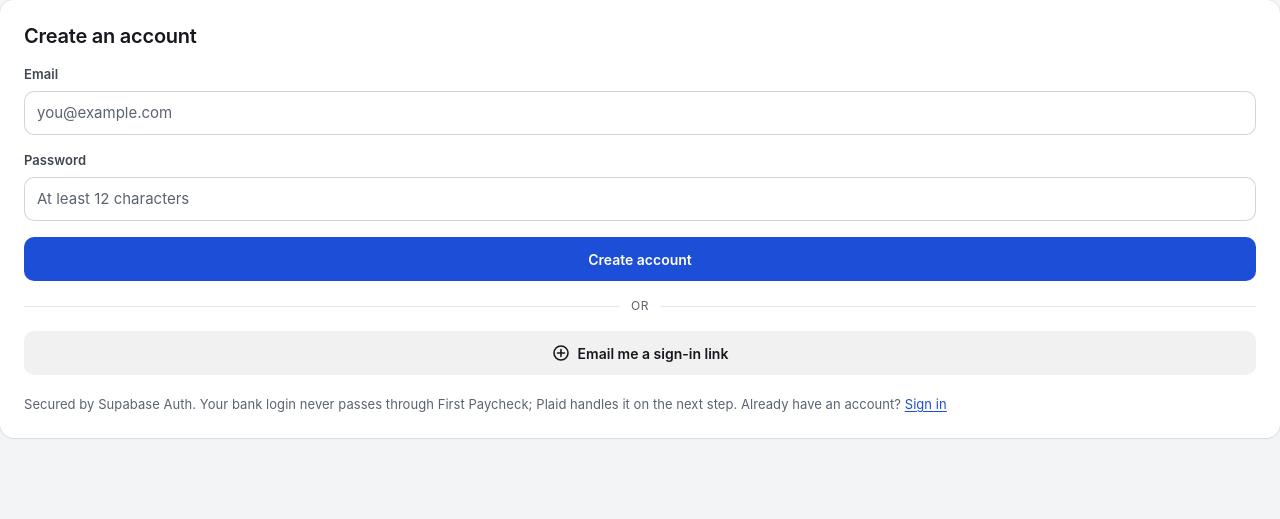
it: AuthForm, create an account › shows a sign-up error in the warning notice
In the field labelled "Email": (640, 113) [24, 90, 1256, 135], type "alex@example.com"
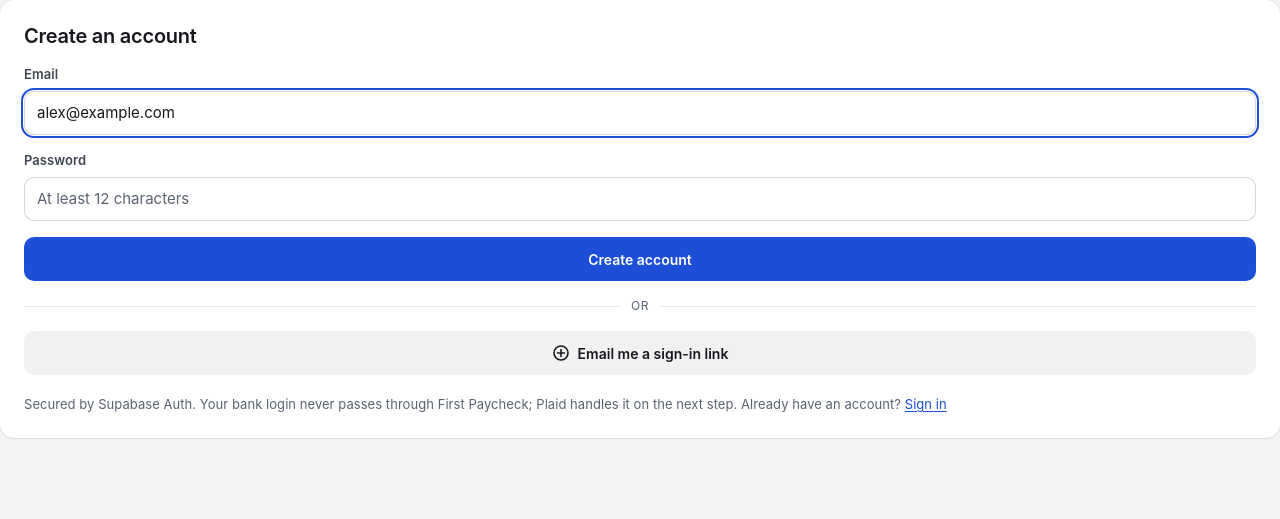
In the password field labelled "Password": (640, 199) [24, 176, 1256, 221], type "correct horse battery"
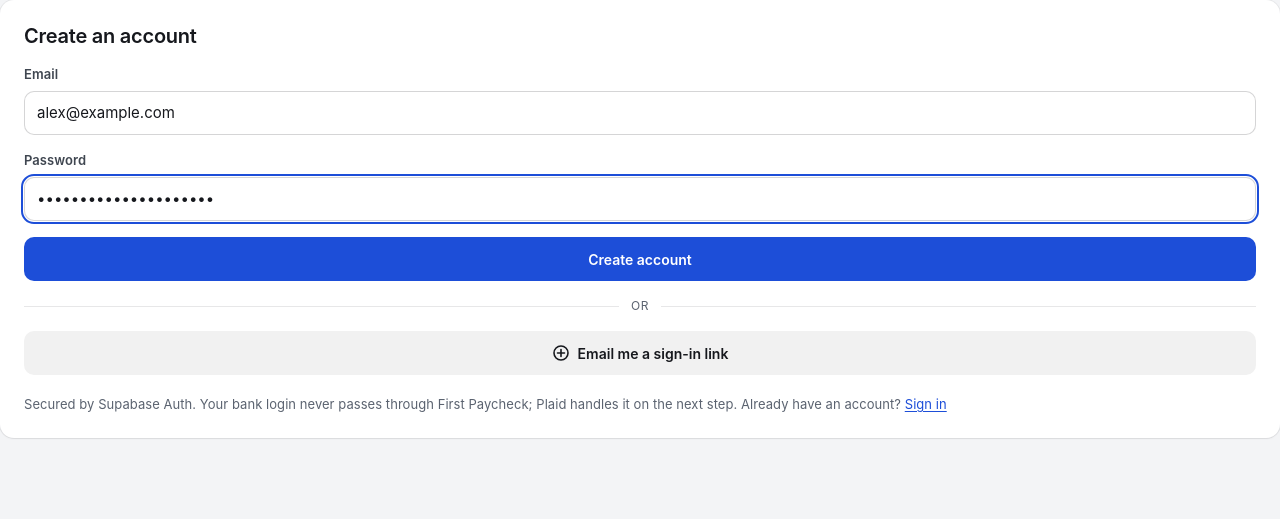
Click the button "Create account": (640, 259) [24, 237, 1256, 281]
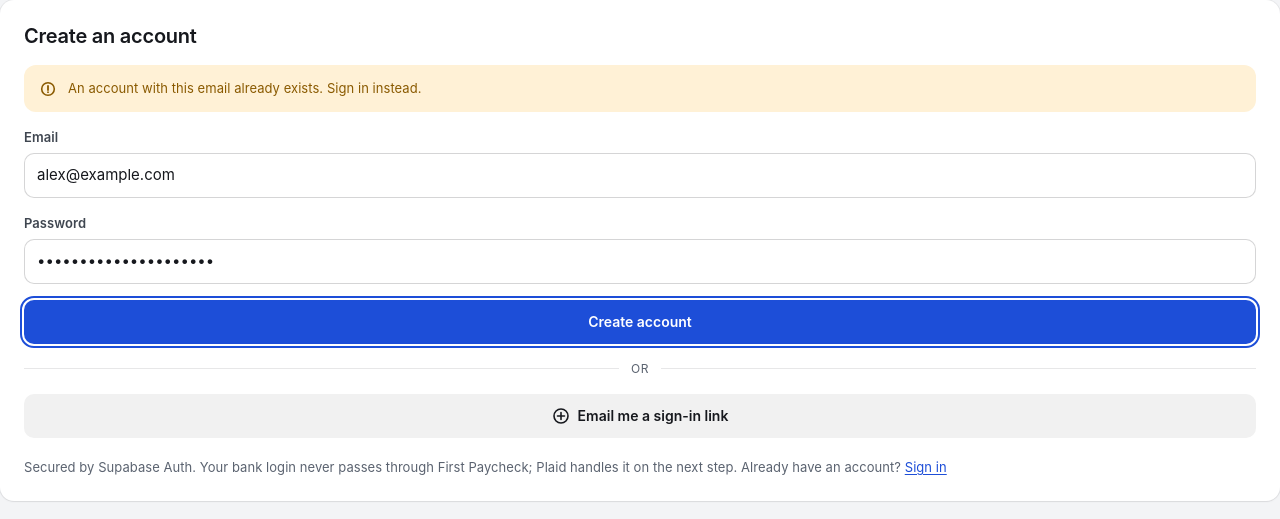
Result: the message reads "An account with this email already exists. Sign in instead." at [68, 80, 422, 96]
